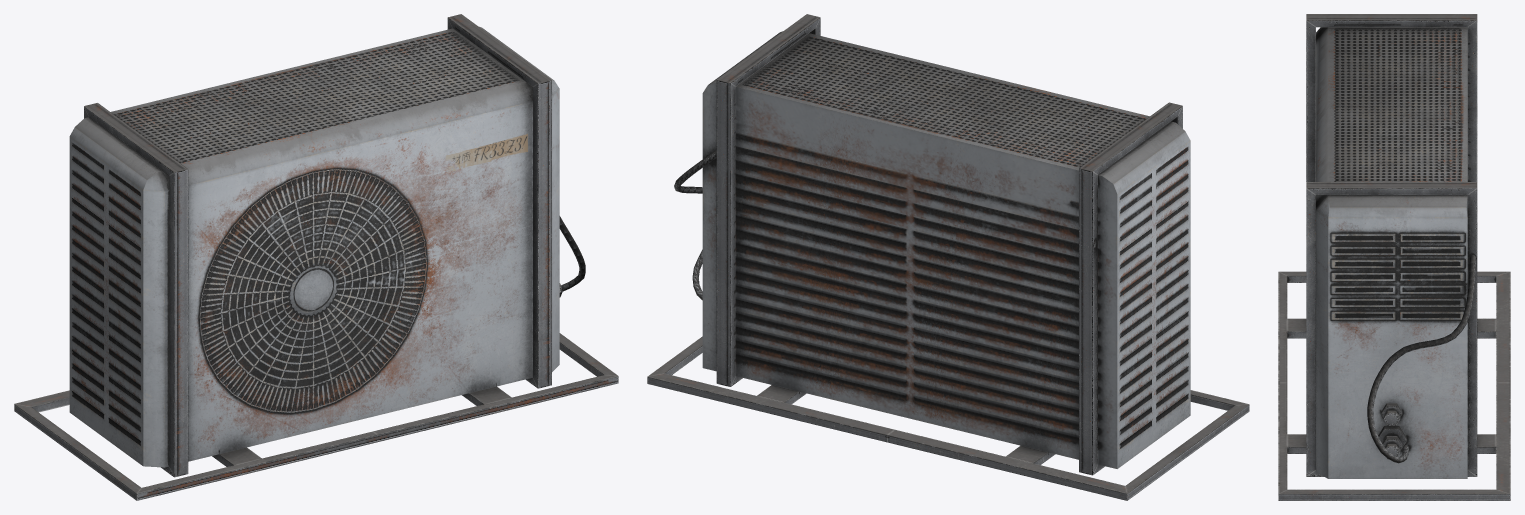
Rendered from SM_AirConditioner01.FBX.
The picture shows the model from 3 angles, left to right: view 1: azimuth 30°, elevation 25°; view 2: azimuth 150°, elevation 25°; view 3: azimuth 270°, elevation 25°; orthographic projection. The views are drawn at different scales.
Visible parts, largest first — view 1: SM_AirConditioner01_LOD0; view 2: SM_AirConditioner01_LOD0; view 3: SM_AirConditioner01_LOD0.
Part boxes in pixels (<box>): SM_AirConditioner01_LOD0: <box>14,14,618,500</box>; SM_AirConditioner01_LOD0: <box>647,14,1249,500</box>; SM_AirConditioner01_LOD0: <box>1278,14,1510,500</box>.
Size of the model in its own units: 85.14 by 36.03 by 49.39.
